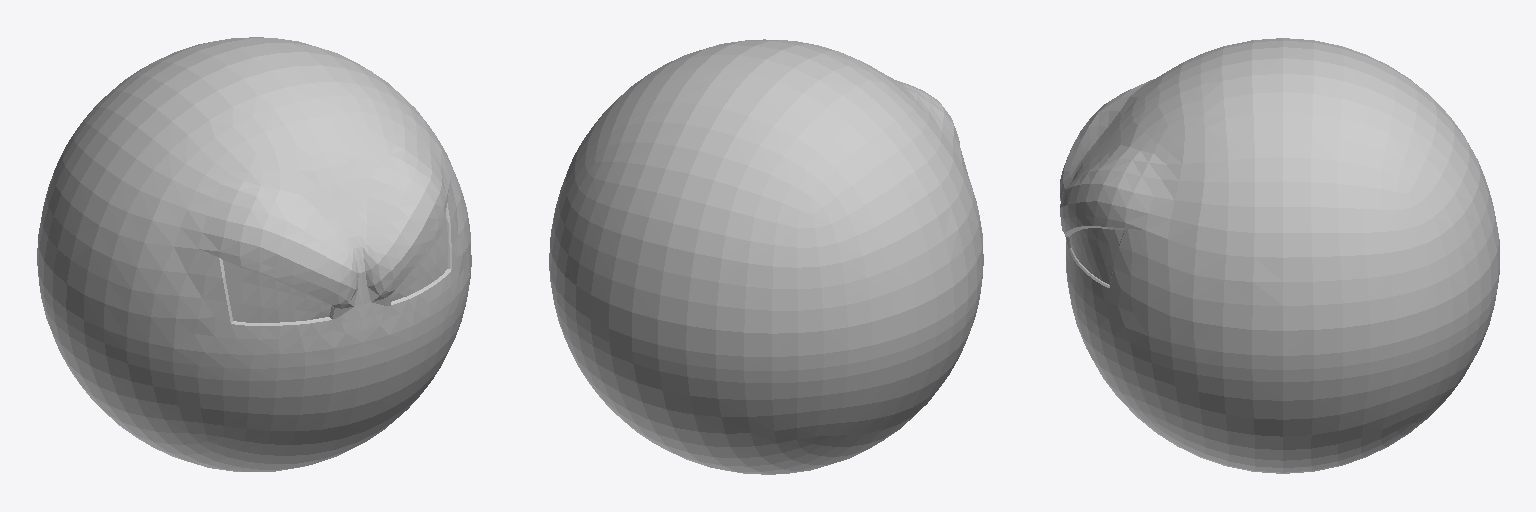
3 renders of one model, left to right at view 1: azimuth 30°, elevation 25°; view 2: azimuth 150°, elevation 25°; view 3: azimuth 270°, elevation 25°, orthographic.
Parts seen in each view (by area): view 1: pm0100_00_00_body_mesh_shape_body_a, pm0100_00_00_body_mesh_shape_body_b, pm0100_00_00_eye_mesh_shape_r_eye, pm0100_00_00_eye_mesh_shape_l_eye; view 2: pm0100_00_00_body_mesh_shape_body_b, pm0100_00_00_body_mesh_shape_body_a; view 3: pm0100_00_00_body_mesh_shape_body_b, pm0100_00_00_body_mesh_shape_body_a, pm0100_00_00_eye_mesh_shape_l_eye.
Boxes of the visible parts, x1,y1,x2,y2 form: pm0100_00_00_body_mesh_shape_body_a: [104, 82, 471, 368]; pm0100_00_00_body_mesh_shape_body_b: [37, 37, 468, 471]; pm0100_00_00_eye_mesh_shape_r_eye: [223, 260, 330, 322]; pm0100_00_00_eye_mesh_shape_l_eye: [391, 213, 447, 301]; pm0100_00_00_body_mesh_shape_body_b: [549, 41, 980, 474]; pm0100_00_00_body_mesh_shape_body_a: [745, 39, 983, 300]; pm0100_00_00_body_mesh_shape_body_b: [1068, 38, 1499, 473]; pm0100_00_00_body_mesh_shape_body_a: [1060, 46, 1228, 365]; pm0100_00_00_eye_mesh_shape_l_eye: [1069, 228, 1124, 284].
Bounding box in the file's own units: 0.4969 × 0.4989 × 0.504.